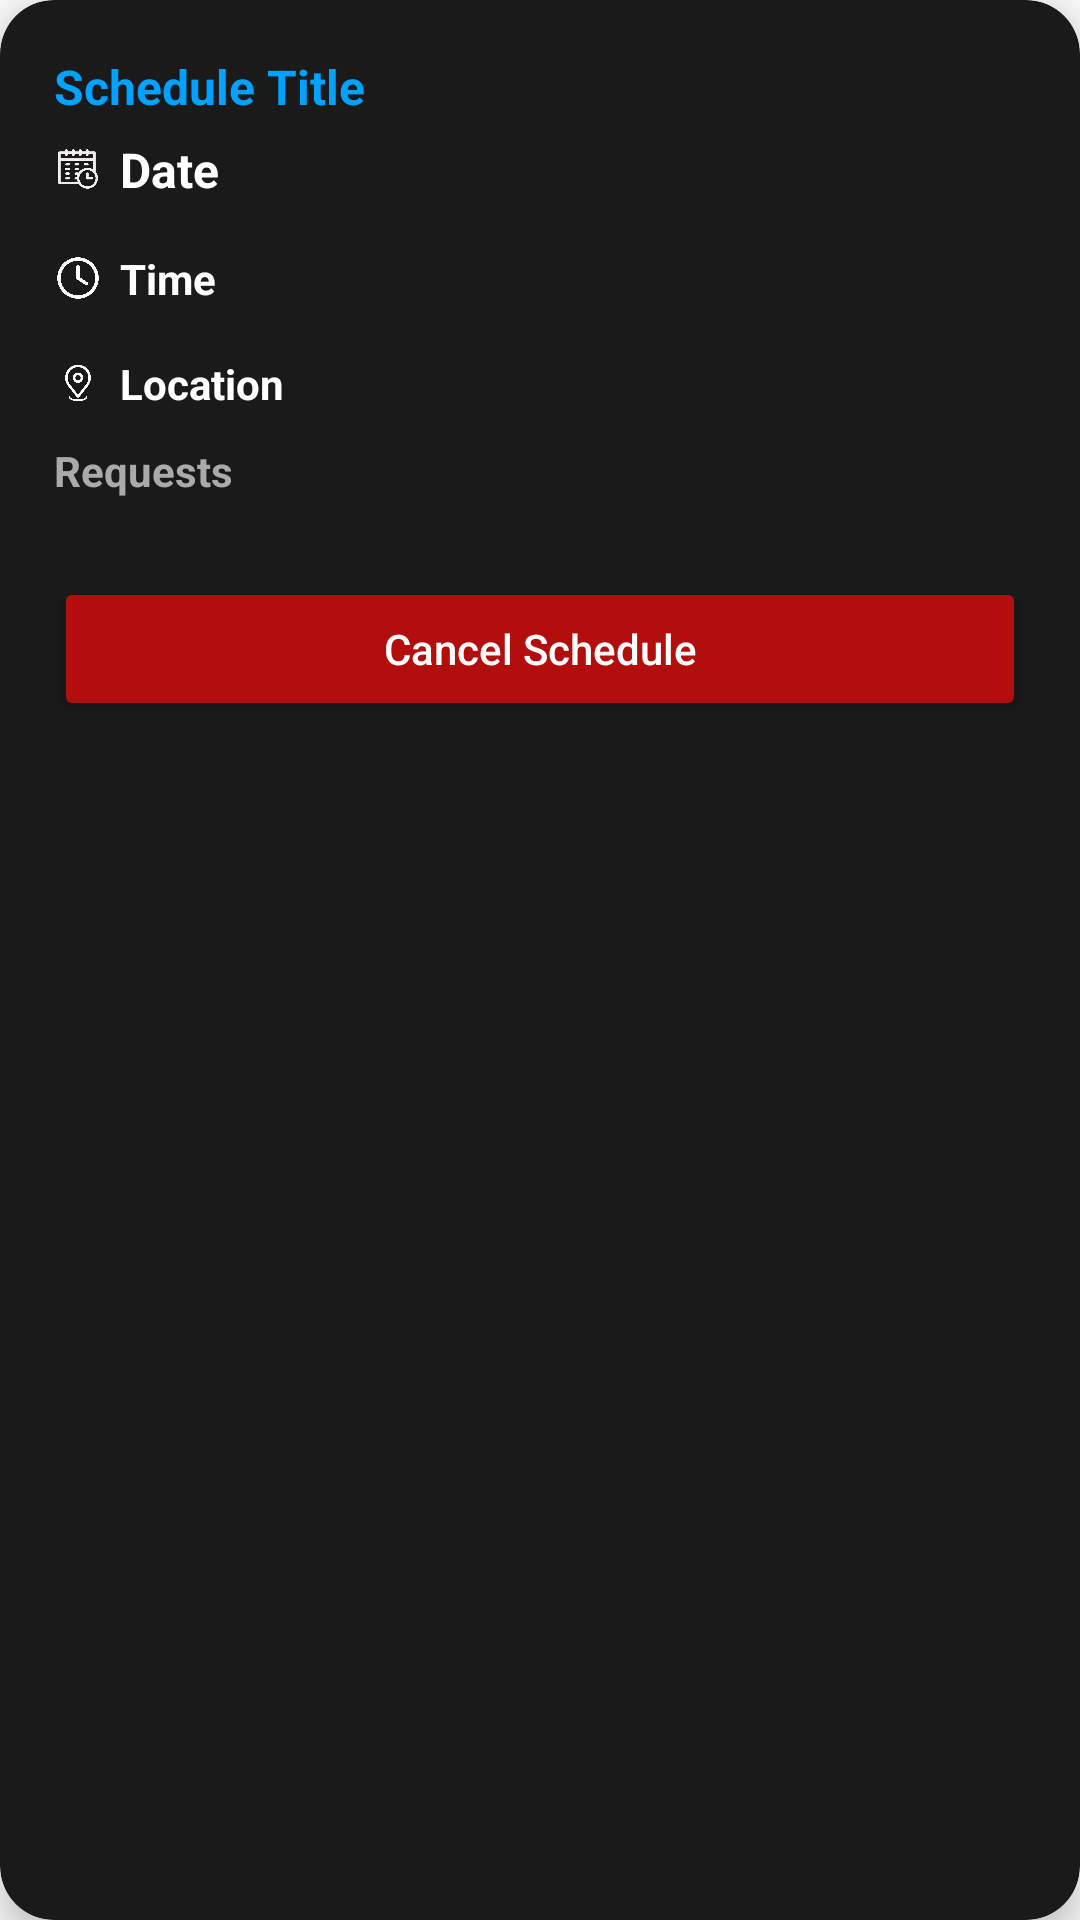

Where to tap for icons on this 1080x1920 app screen, as [x,y]:
calender: [78,169]
clock: [78,278]
pin: [78,383]
